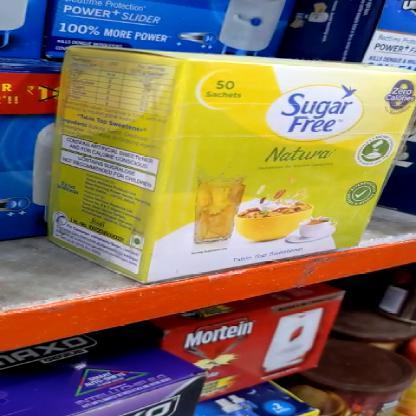SUGAR FREE NATURA SACHET 50: (182, 61, 415, 278)
